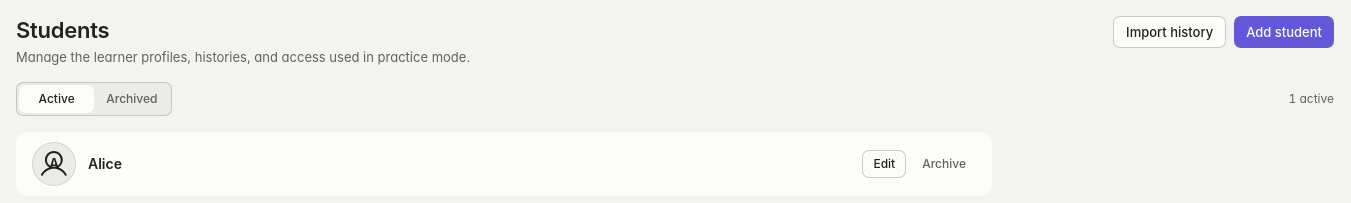
Scenario: TutorStudents › renders active students and hides archived ones until the tab is switched
Expected: the link "Alice" is shown, left=88, top=154, right=122, bottom=174
Expected: the text "Archie" is not shown
Click the button "Archived".
click(132, 99)  # box left=94, top=85, right=169, bottom=113
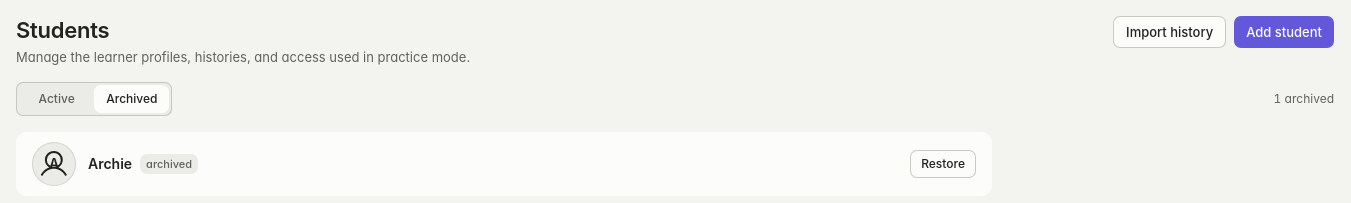
Now the text "Archie" is shown, box left=88, top=154, right=132, bottom=174
Now the link "Alice" is gone
